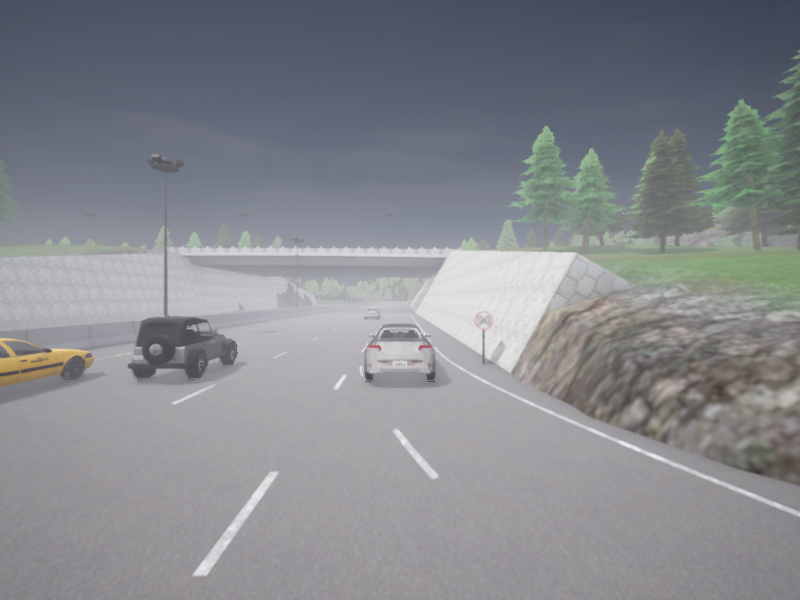vehicle: (128, 317, 236, 378), (0, 338, 94, 386), (364, 323, 435, 380), (365, 307, 380, 318)
